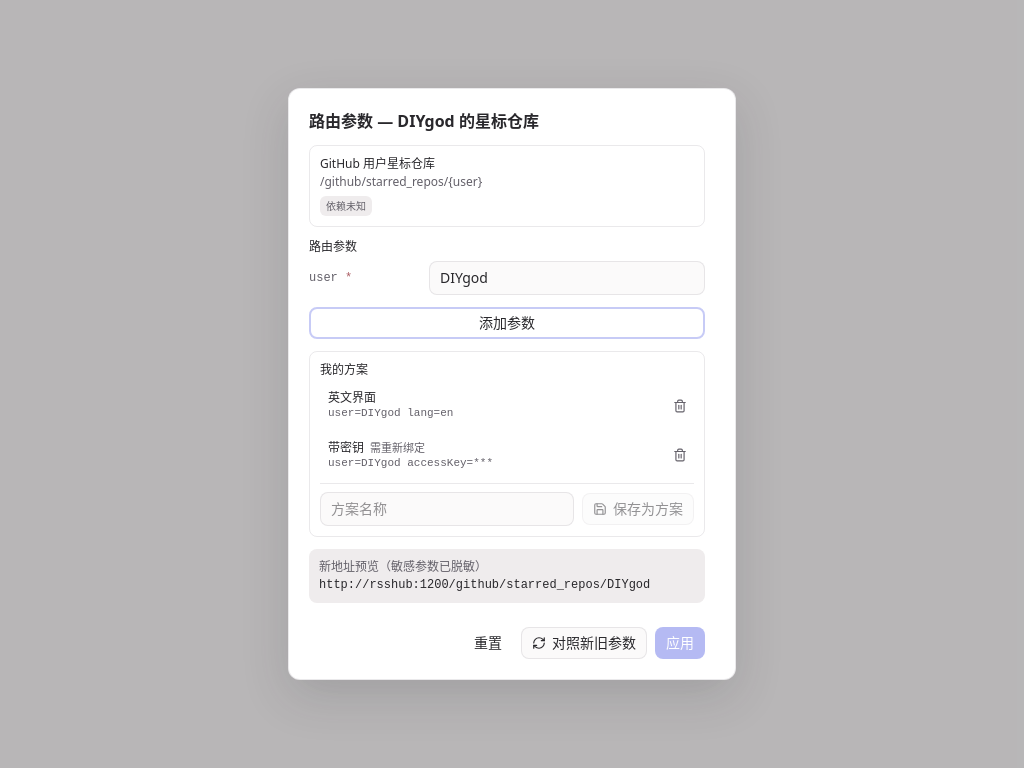
it: F047 — N030 我的方案 › 应用方案（无敏感参数）：非敏感参数直接回填新地址
Click the text "英文界面": (352, 397) [328,389,376,406]
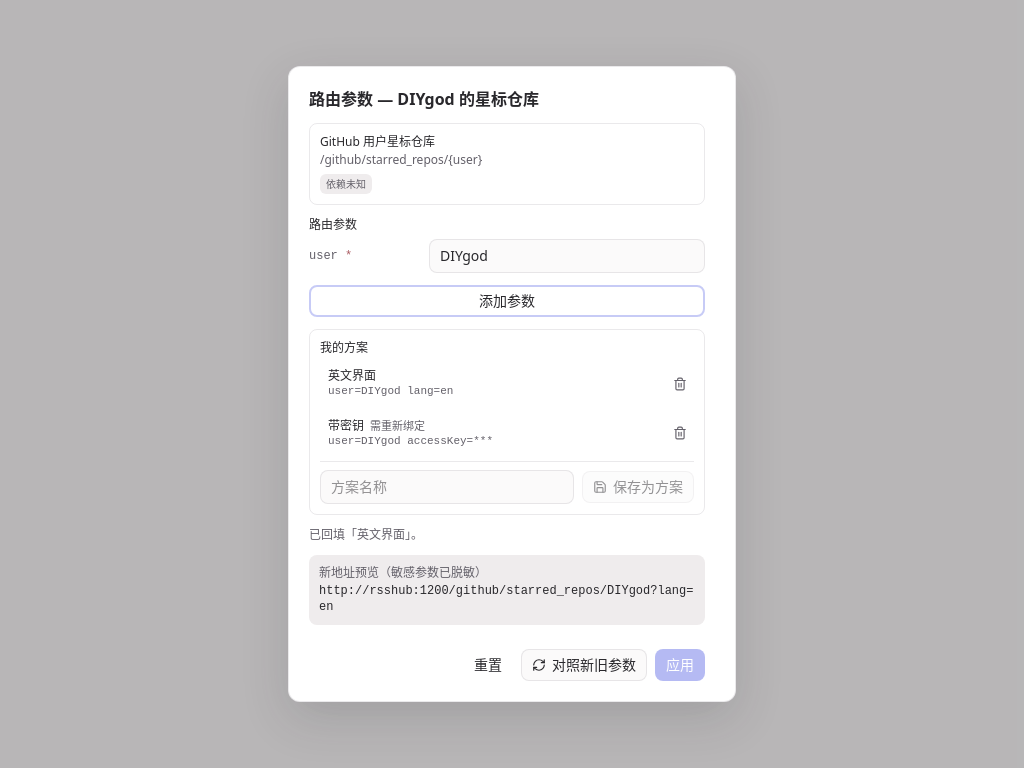
Check: the text "已回填「英文界面」。" is shown, box [309,526,423,543]
Check: the text "http://rsshub:1200/github/starred_repos/DIYgod?lang=en" is shown, box [319,583,695,615]
